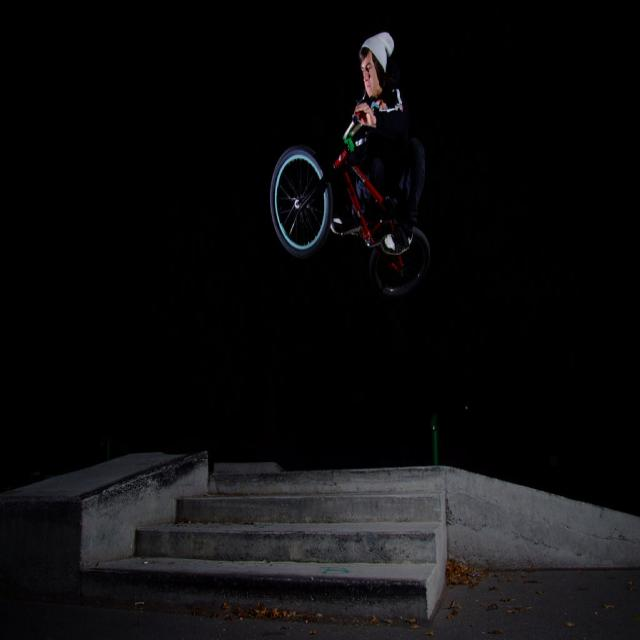Bicycle: (278, 130, 438, 323)
People: (341, 39, 406, 201)
